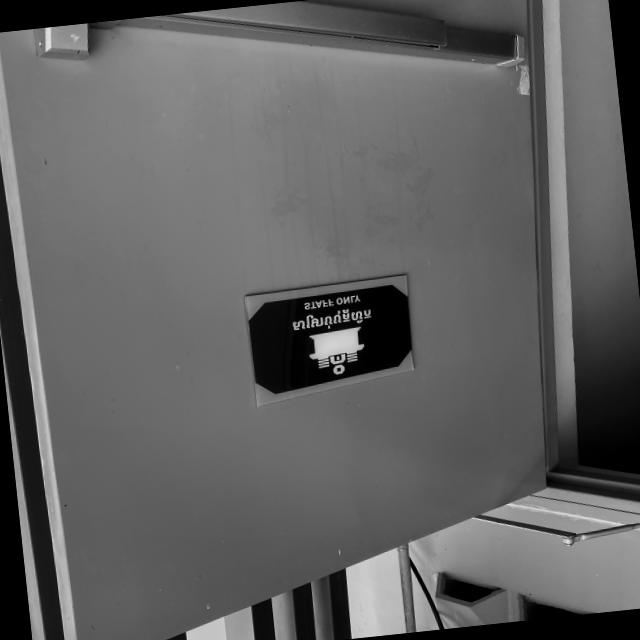Yolov11_80vkh: (287, 302, 375, 336)
